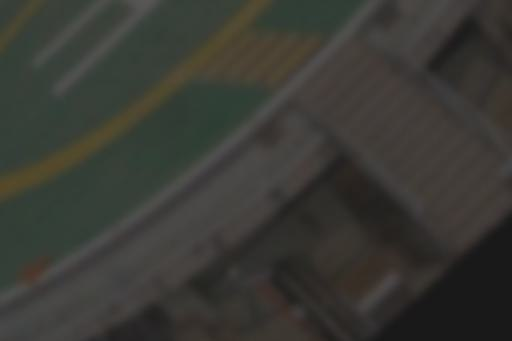Apron: (1, 1, 282, 215)
